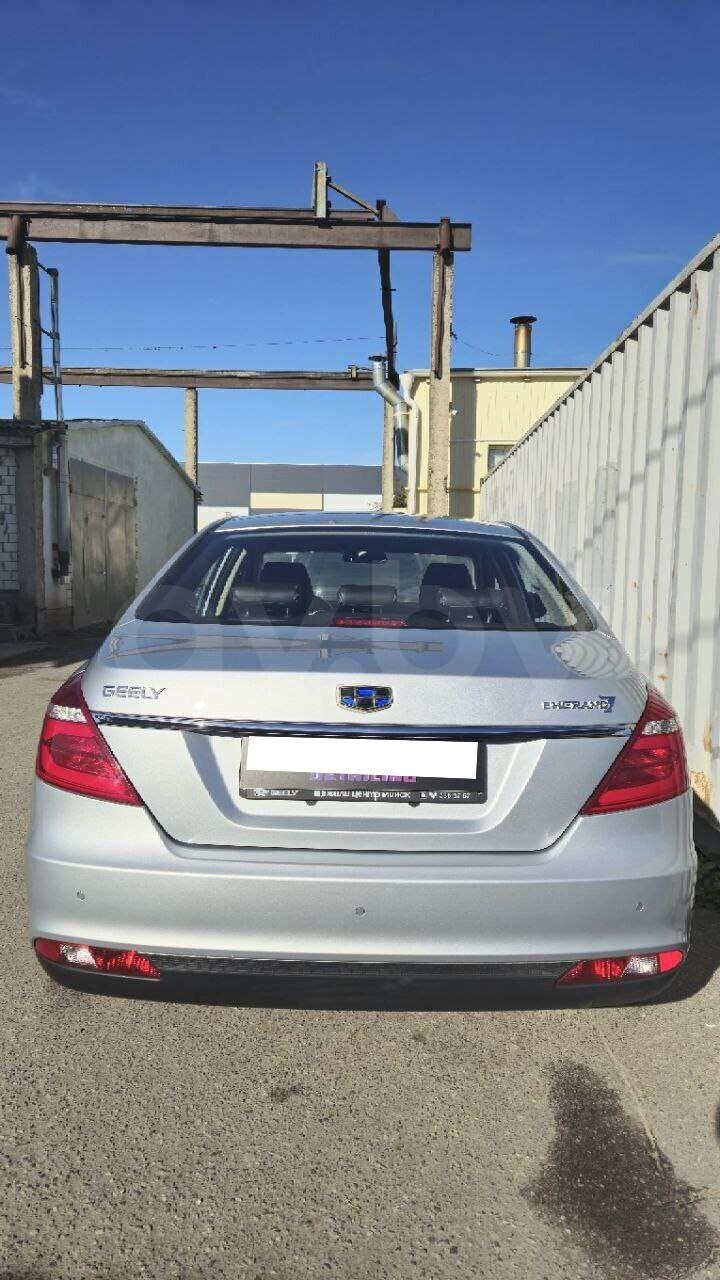Emgrand_2019-2021: (26, 513, 696, 1004)
